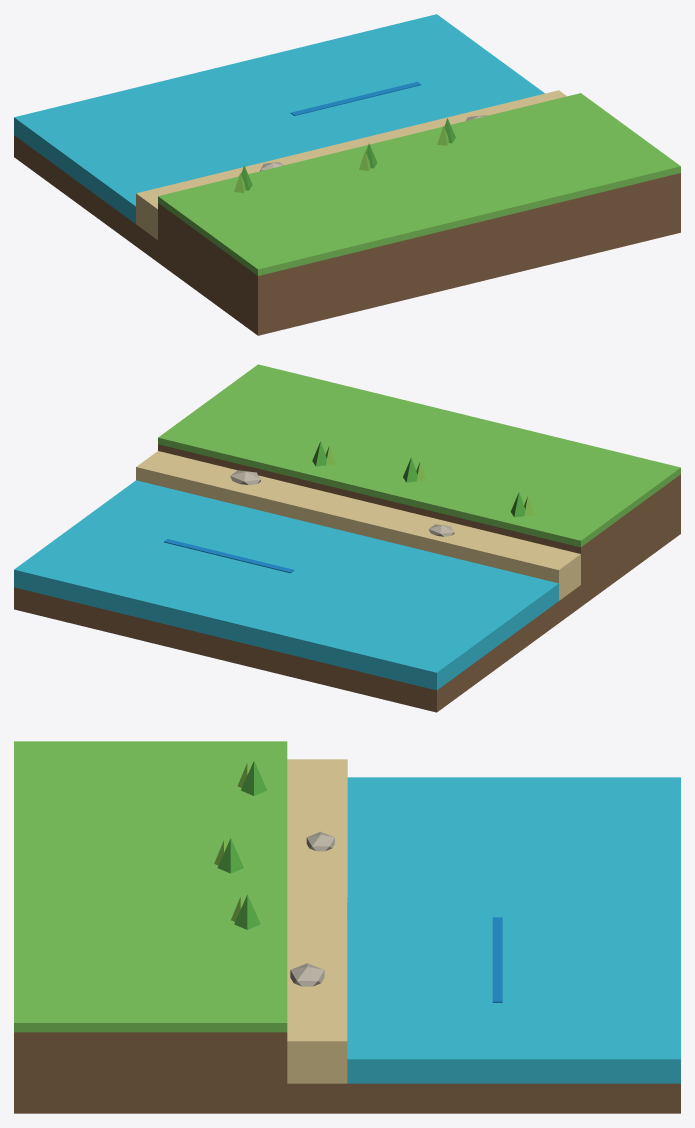
Rendered from margem_reta.glb.
The picture shows the model from 3 angles, top to bottom: view 1: azimuth 30°, elevation 25°; view 2: azimuth 150°, elevation 25°; view 3: azimuth 270°, elevation 25°; orthographic projection. The views are drawn at different scales.
Parts seen in each view (by area): view 1: corpo; view 2: corpo; view 3: corpo.
Boxes of the visible parts, box(x1,y1,x2,y2) form: corpo: box(14, 14, 680, 335); corpo: box(14, 364, 680, 712); corpo: box(14, 741, 680, 1113).
Size of the model in its own units: 2 by 0.4 by 2.
